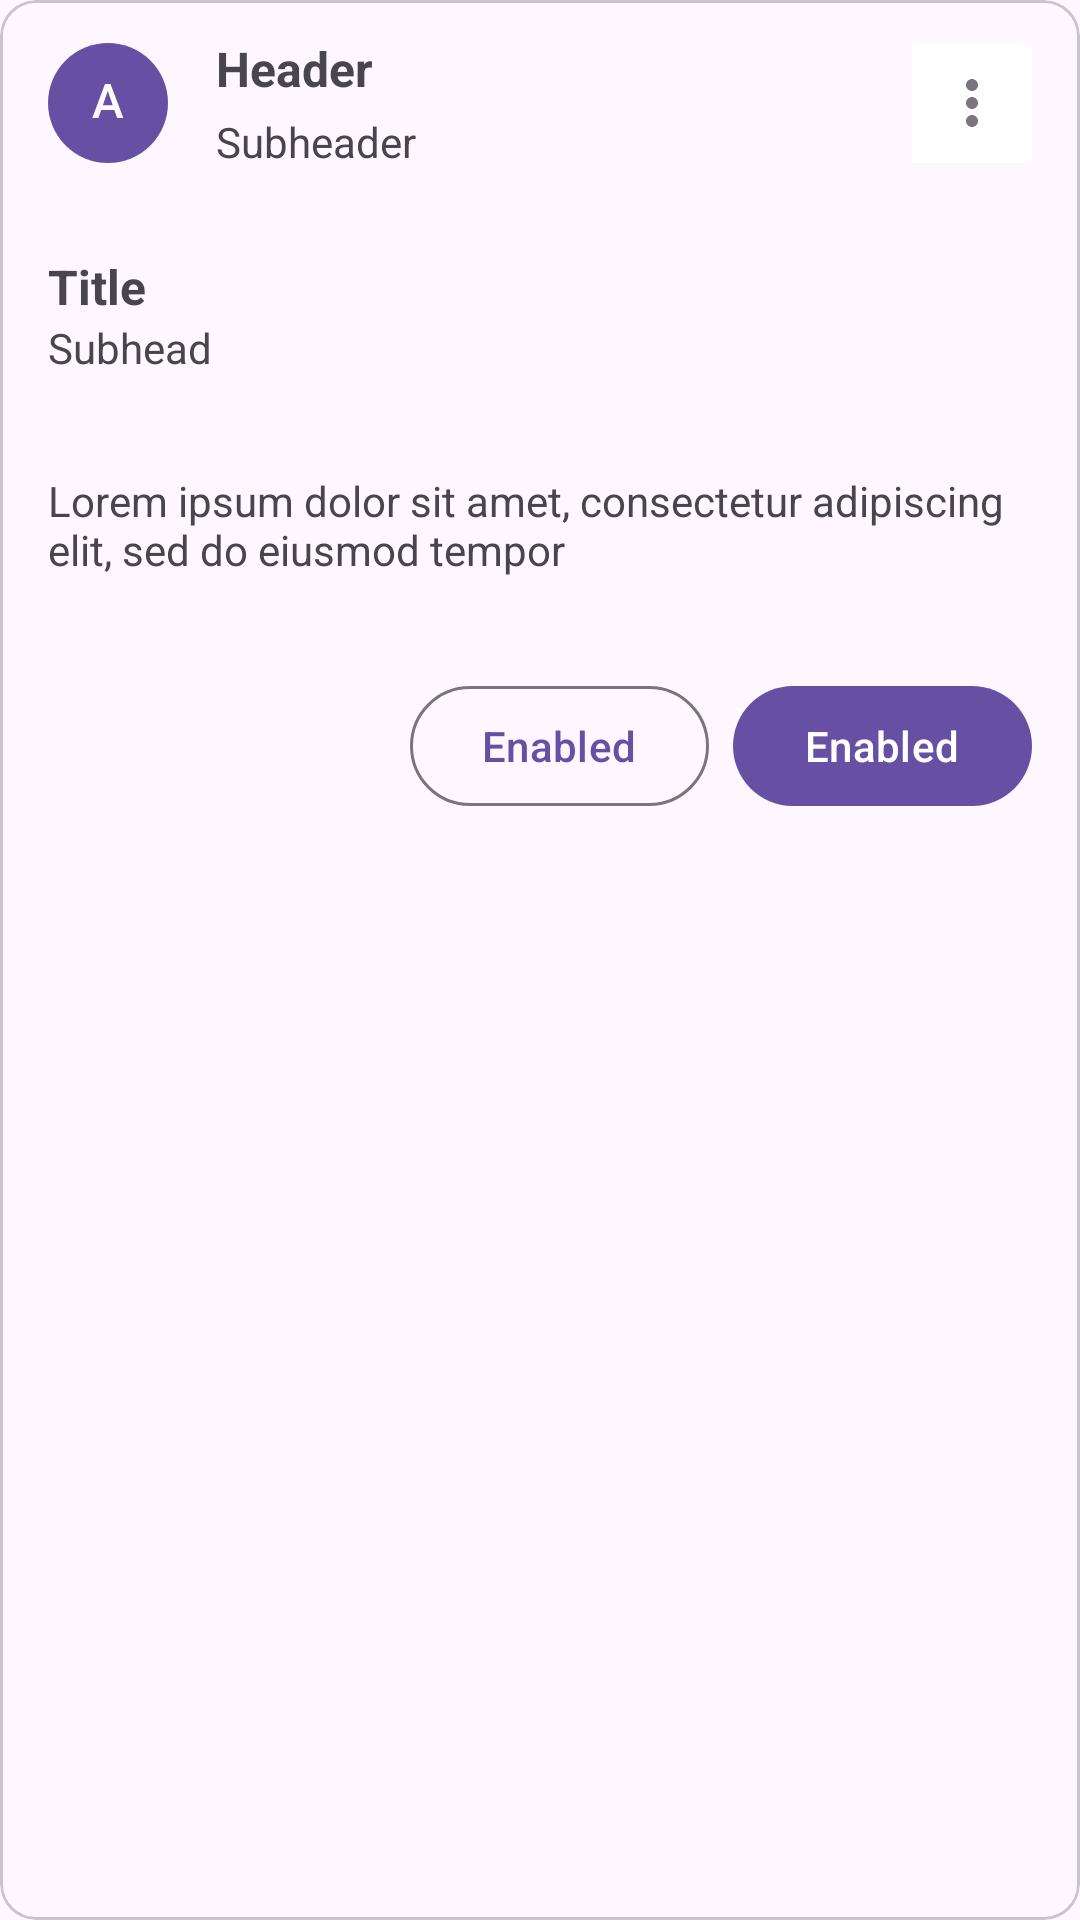

Point at icon controls on the screen. Image size 1080px x 1920px, points as (x=x, y=y).
more: (x=972, y=103)
